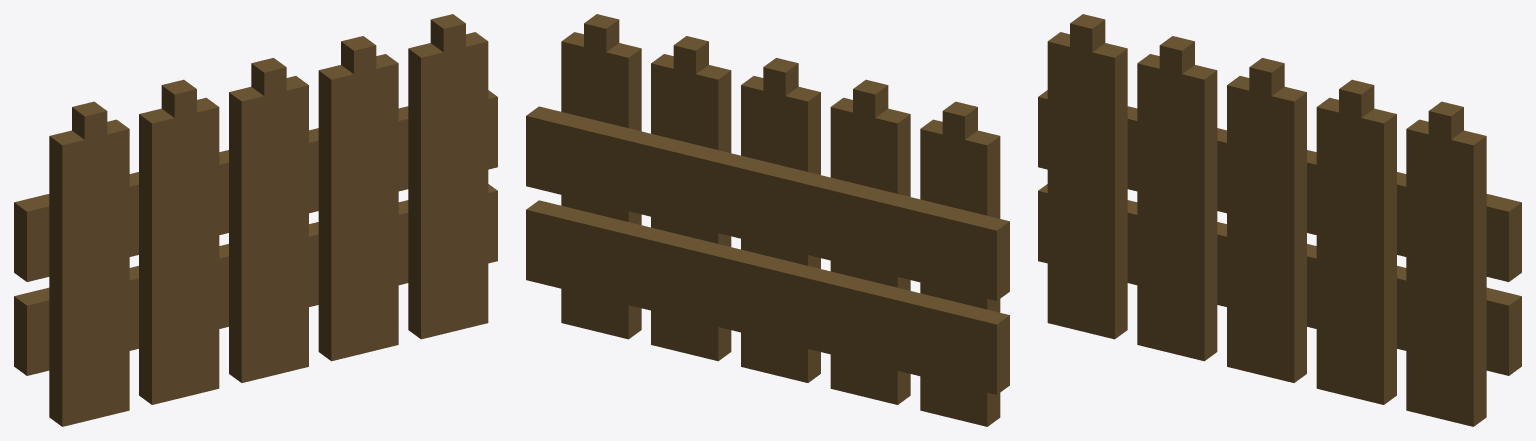
File: fencewood.obj
3 renders of one model, left to right at view 1: azimuth 30°, elevation 25°; view 2: azimuth 150°, elevation 25°; view 3: azimuth 330°, elevation 25°, orthographic.
Size of the model in its own units: 2.1 by 1.3 by 0.2.
